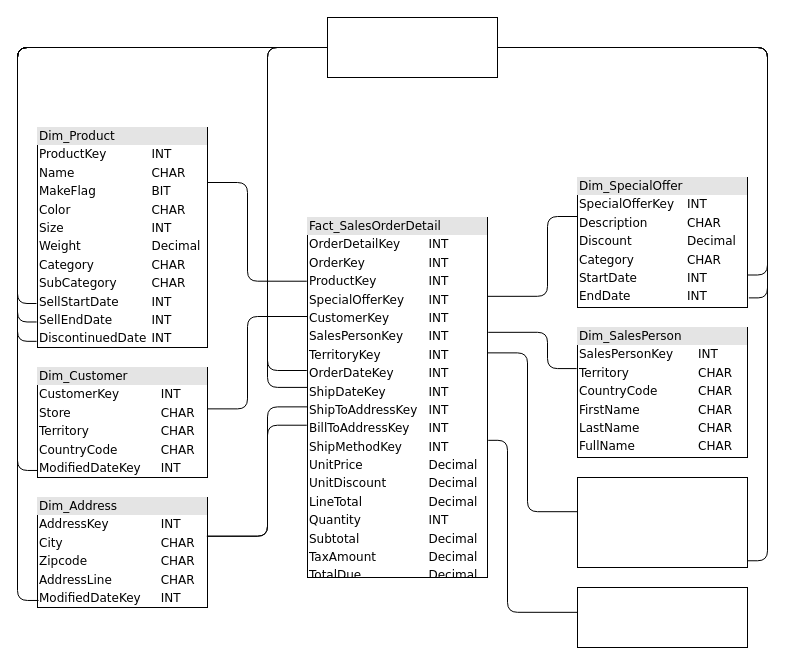
Image size: 786x665. Some labels were removed from this diagram. The shapes that lost their labels are listed below. From the top down, each one's centre as x and y in pixels, then its label:
At pixel 412 47: "Dim_Date DateKey INT Date Date".
At pixel 662 522: "Dim_Territory TerritoryKey INT Name CHAR CountryCode CHAR ModifiedDateKey INT".
At pixel 662 617: "Dim_ShipmentMethod ShipmentMethodKey INT ShipMethodName CHAR".
